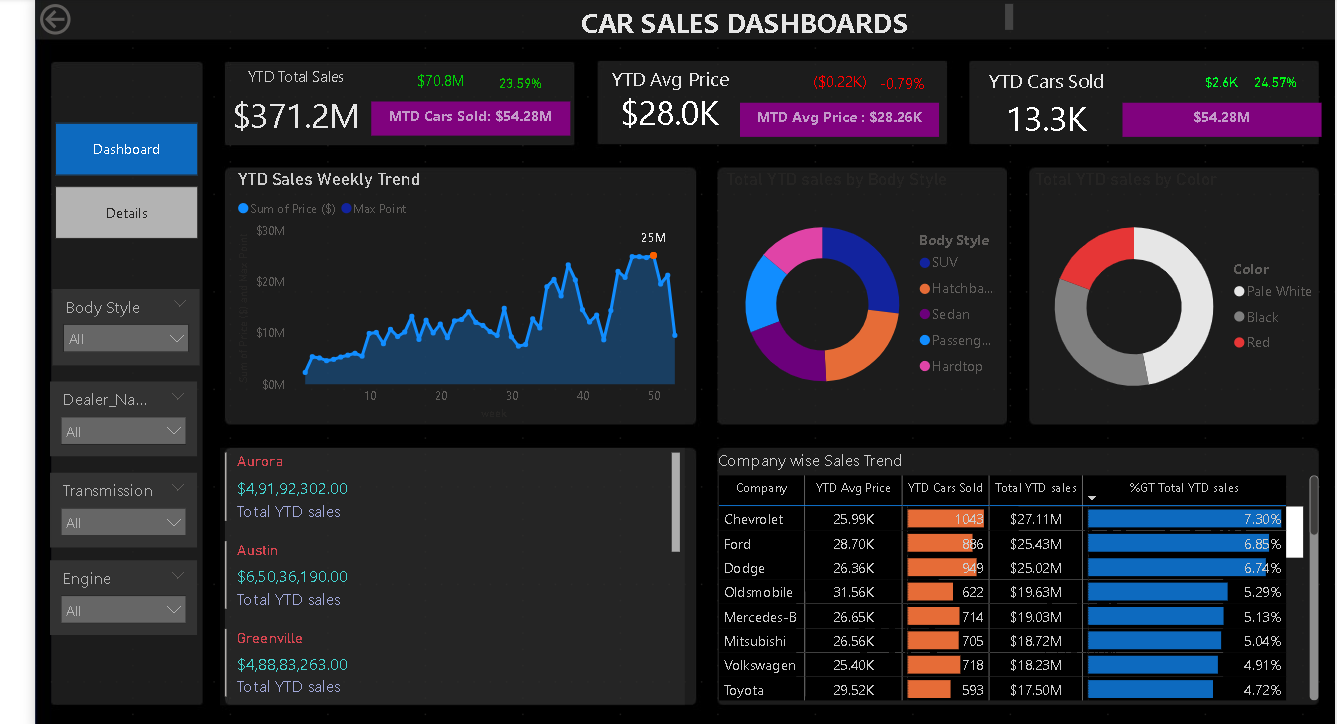

This screenshot's page, from the dashboard's own definition file:
{"tool":"powerbi","page":{"name":"Dashboard","canvas":[1280,720],"ordinal":0},"visuals":[{"type":"card","title":"YTD Total Sales","fields":{"Values":["date calender.Total YTD sales"]},"box":[180.9,65.4,153,79.3],"z":0},{"type":"card","fields":{"Values":["date calender.sales difference"]},"box":[357.6,67.9,83.5,27.8],"z":1000},{"type":"card","fields":{"Values":["date calender.Year over year growth"]},"box":[434.6,64,87.7,40.3],"z":2000},{"type":"card","title":"YTD Avg Price","fields":{"Values":["date calender.Average of YTD"]},"box":[528.4,65.1,194.8,68.2],"z":3000},{"type":"card","fields":{"Values":["date calender.Average of MTD"]},"box":[749.9,583,279.7,103],"z":4000},{"type":"card","fields":{"Values":["date calender.YOY growth"]},"box":[816.7,61.2,73.7,47.3],"z":5000},{"type":"card","title":"YTD Cars Sold","fields":{"Values":["date calender.YTD Cars Sold"]},"box":[922.4,68.2,148.9,75.1],"z":6000},{"type":"card","fields":{"Values":["date calender.MTD KPI"]},"box":[330.6,101.3,196.2,33.4],"z":8000},{"type":"card","fields":{"Values":["date calender.PYTD Final"]},"box":[890.4,524.5,279.7,148.9],"z":9000},{"type":"card","fields":{"Values":["date calender.YOY Final"]},"box":[968.3,499.5,279.7,50.1],"z":10000},{"type":"areaChart","title":"YTD Sales Weekly Trend","fields":{"Category":["date calender.week"],"Y":["Sum(car_data.Price ($))","date calender.Max Point"]},"box":[194.8,167,457.7,251.8],"z":11000},{"type":"donutChart","fields":{"Y":["date calender.Total YTD sales"],"Category":["car_data.Color"]},"box":[979.7,167.4,289.2,252.3],"z":12000},{"type":"donutChart","fields":{"Y":["date calender.Total YTD sales"],"Category":["car_data.Body Style"]},"box":[676.2,167,282.4,247.7],"z":13000},{"type":"multiRowCard","fields":{"Values":["car_data.Dealer_Region","date calender.Total YTD sales"]},"box":[182.3,442.4,457.7,253.2],"z":14000},{"type":"tableEx","title":"Company wise Sales Trend","fields":{"Values":["car_data.Company","date calender.YTD Avg Price","date calender.YTD Cars Sold","date calender.Total YTD sales","Divide(date calender.Total YTD sales, ScopedEval(date calender.Total YTD sales, []))"]},"box":[667.1,441.8,601.8,253.5],"z":15000},{"type":"actionButton","box":[0,0,100,40],"z":16000},{"type":"textbox","box":[429.9,0,538.4,40.3],"z":17000},{"type":"slicer","title":"Body Style","fields":{"Values":["car_data.Body Style"]},"box":[16.7,285.2,144.7,75.1],"z":18000},{"type":"slicer","title":"Body Style","fields":{"Values":["car_data.Dealer_Name"]},"box":[15.3,377,144.7,73.7],"z":19000},{"type":"slicer","title":"Body Style","fields":{"Values":["car_data.Transmission"]},"box":[15.3,466.1,144.7,73.7],"z":20000},{"type":"slicer","title":"Body Style","fields":{"Values":["car_data.Engine"]},"box":[15.3,552.3,144.7,73.7],"z":21000},{"type":"pageNavigator","box":[19.5,122.4,141.9,114.9],"z":22000},{"type":"card","fields":{"Values":["date calender.MTD KPI average"]},"box":[694.3,101.6,196.2,33.4],"z":24000},{"type":"card","fields":{"Values":["date calender.Total MTD Sales"]},"box":[1071.3,101.6,196.2,33.4],"z":25000},{"type":"card","fields":{"Values":["date calender.Difference of YTD and PYTD  final"]},"box":[1140.9,65.2,55.4,35.7],"z":26000},{"type":"card","fields":{"Values":["date calender.Diffrence of YTD and PYTD"]},"box":[758.3,66.8,69.6,34.8],"z":27000},{"type":"card","fields":{"Values":["date calender.YOY Final"]},"box":[1185.2,56.6,72.6,54.2],"z":28000}]}

Visuals, with their boxes on the page's 1280x720 design canvas (x1, y1, x2, y2). These are canvas units, not pixel positions in the 1337x724 screenshot, which may show the page scaled, cropped or inside an application window:
"YTD Total Sales" card: <region>181, 65, 334, 145</region>
card - date calender.sales difference: <region>358, 68, 441, 96</region>
card - date calender.Year over year growth: <region>435, 64, 522, 104</region>
"YTD Avg Price" card: <region>528, 65, 723, 133</region>
card - date calender.Average of MTD: <region>750, 583, 1030, 686</region>
card - date calender.YOY growth: <region>817, 61, 890, 108</region>
"YTD Cars Sold" card: <region>922, 68, 1071, 143</region>
card - date calender.MTD KPI: <region>331, 101, 527, 135</region>
card - date calender.PYTD Final: <region>890, 524, 1170, 673</region>
card - date calender.YOY Final: <region>968, 500, 1248, 550</region>
"YTD Sales Weekly Trend" areaChart: <region>195, 167, 652, 419</region>
donutChart - date calender.Total YTD sales x car_data.Color: <region>980, 167, 1269, 420</region>
donutChart - date calender.Total YTD sales x car_data.Body Style: <region>676, 167, 959, 415</region>
multiRowCard - car_data.Dealer_Region x date calender.Total YTD sales: <region>182, 442, 640, 696</region>
"Company wise Sales Trend" tableEx: <region>667, 442, 1269, 695</region>
actionButton: <region>0, 0, 100, 40</region>
textbox: <region>430, 0, 968, 40</region>
"Body Style" slicer: <region>17, 285, 161, 360</region>
"Body Style" slicer: <region>15, 377, 160, 451</region>
"Body Style" slicer: <region>15, 466, 160, 540</region>
"Body Style" slicer: <region>15, 552, 160, 626</region>
pageNavigator: <region>20, 122, 161, 237</region>
card - date calender.MTD KPI average: <region>694, 102, 890, 135</region>
card - date calender.Total MTD Sales: <region>1071, 102, 1268, 135</region>
card - date calender.Difference of YTD and PYTD  final: <region>1141, 65, 1196, 101</region>
card - date calender.Diffrence of YTD and PYTD: <region>758, 67, 828, 102</region>
card - date calender.YOY Final: <region>1185, 57, 1258, 111</region>
